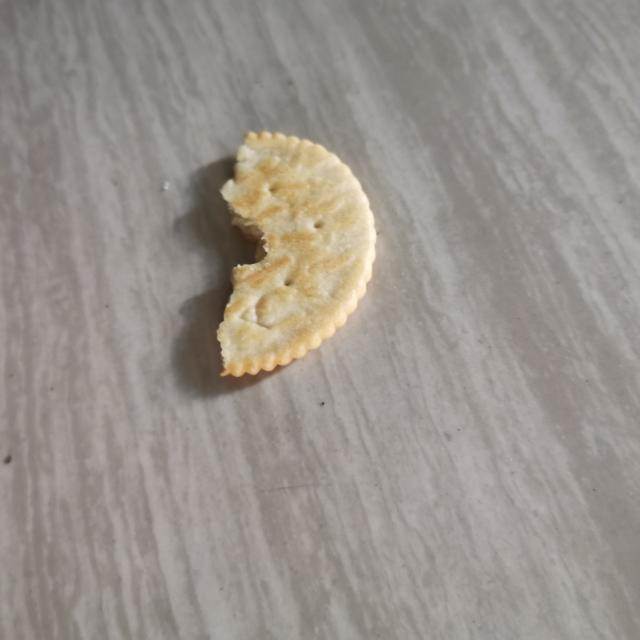Broken: (215, 129, 377, 378)
